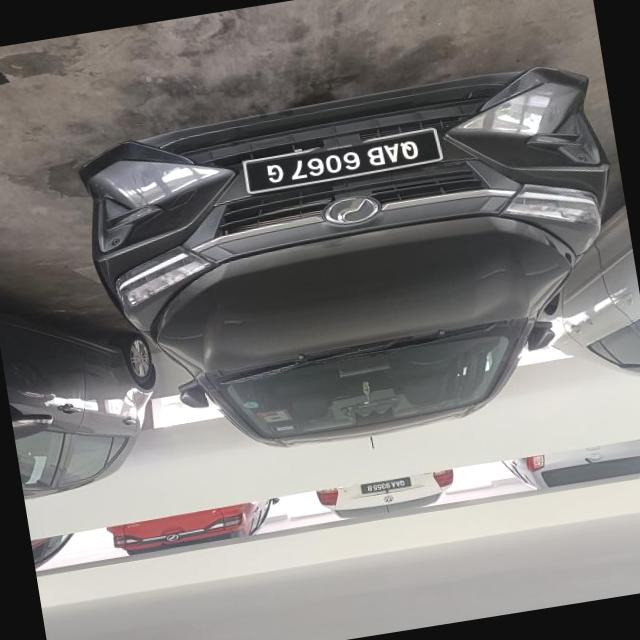PeroduaAxia: (71, 56, 640, 479)
